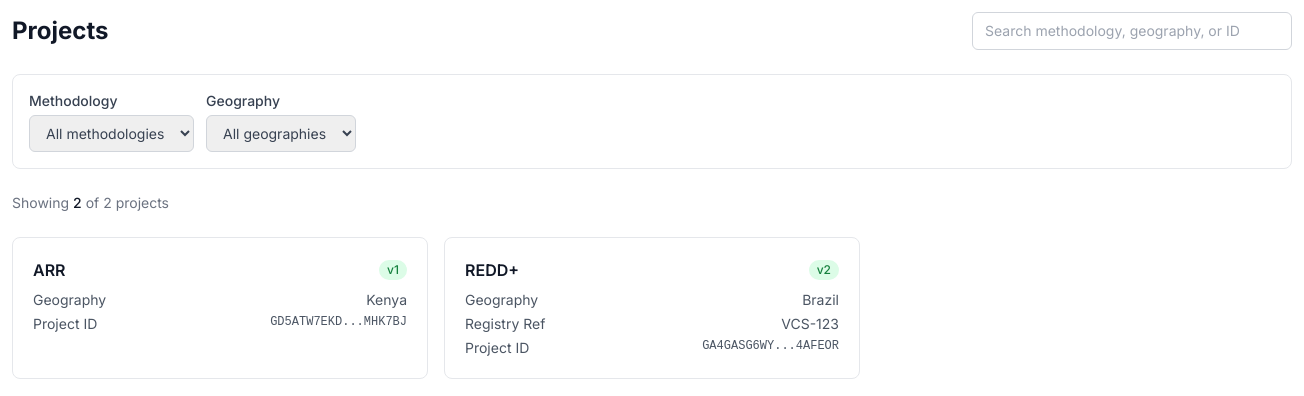
Test case: Projects page › filters projects by search query
Expected: the heading "ARR" is shown, [33,258,66,282]
Type "zzz" into the search field named "Search projects" at (1132, 31), box [972,12,1292,50]
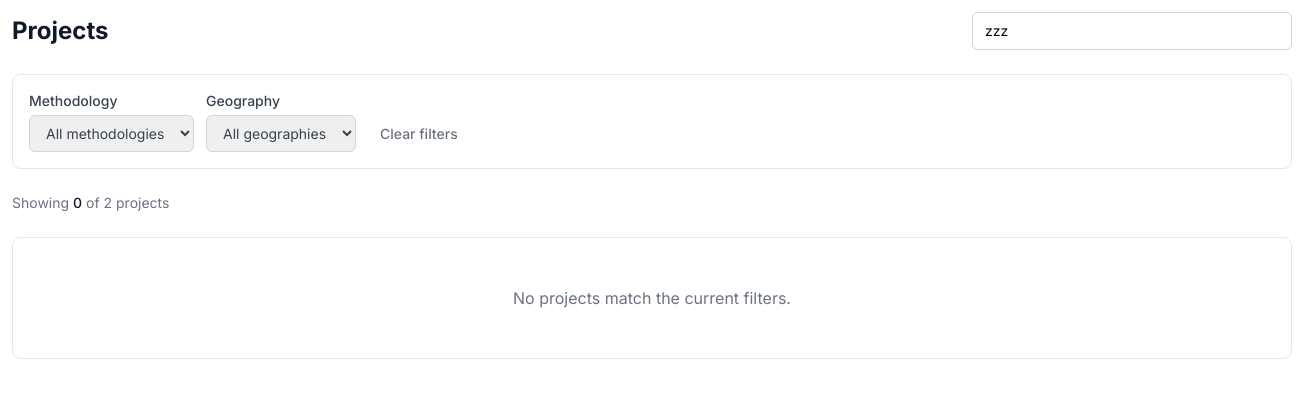
Now the text "No projects match the current filters." is shown, box [513,288,791,308]
